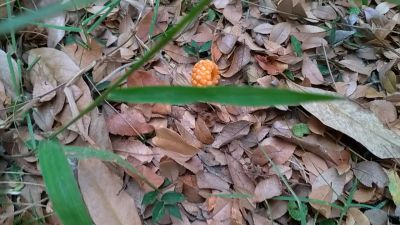eggs: (188, 54, 223, 94)
